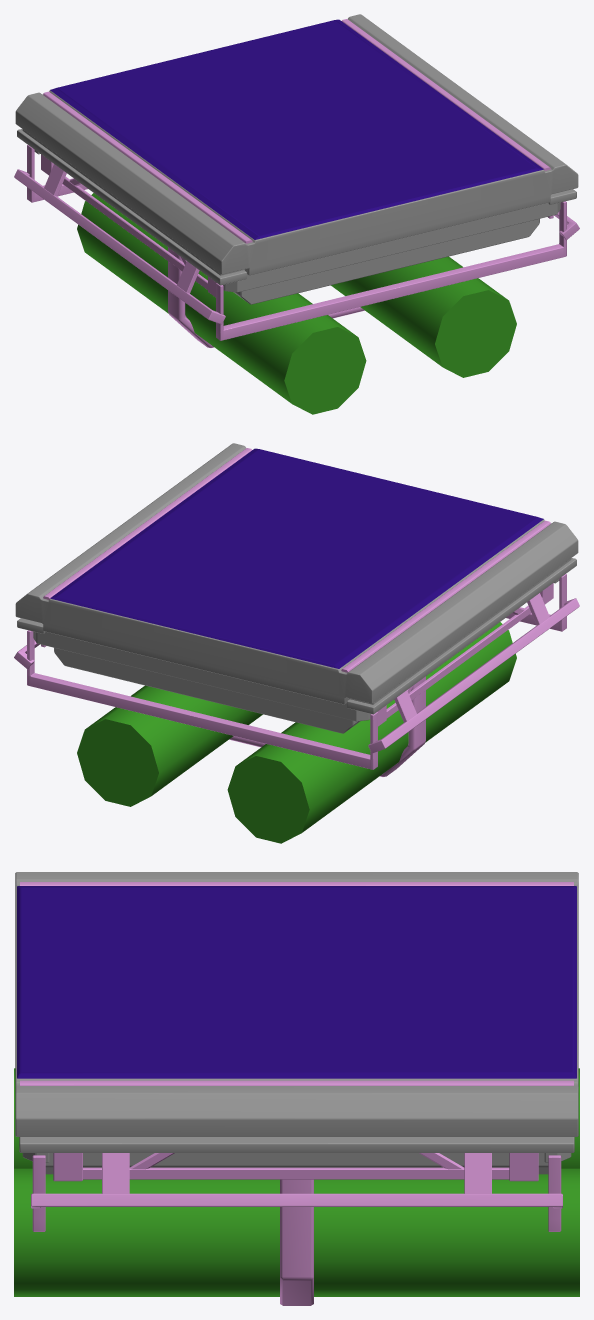
The model's file is BridgeTiles.FBX.
The picture shows the model from 3 angles, top to bottom: view 1: azimuth 30°, elevation 25°; view 2: azimuth 150°, elevation 25°; view 3: azimuth 270°, elevation 25°; orthographic projection. The views are drawn at different scales.
Visible parts, largest first — view 1: Object001, SM_SideFloor_008, Cylinder001, Box017, Box016, Box020, Object004, Box021, Box019, Line005, Line004, Object003; view 2: Object001, SM_SideFloor_008, Cylinder001, Box017, Box016, Box020, Object004, Box021, Box019, Line005, Line004, Object003; view 3: Object001, Cylinder001, SM_SideFloor_008, Box021, Box019, Object004, Box020, Line005, Line004, Box017, Line003.
Boxes of the visible parts, x1=… form: Object001: x1=50, y1=19, x2=543, y2=239; SM_SideFloor_008: x1=15, y1=14, x2=578, y2=285; Cylinder001: x1=77, y1=193, x2=516, y2=414; Box017: x1=27, y1=145, x2=566, y2=340; Box016: x1=34, y1=150, x2=560, y2=292; Box020: x1=233, y1=219, x2=539, y2=304; Object004: x1=43, y1=19, x2=550, y2=243; Box021: x1=14, y1=169, x2=579, y2=324; Box019: x1=41, y1=154, x2=553, y2=297; Line005: x1=168, y1=247, x2=364, y2=347; Line004: x1=44, y1=164, x2=199, y2=293; Object003: x1=22, y1=129, x2=244, y2=275; Object001: x1=50, y1=448, x2=543, y2=668; SM_SideFloor_008: x1=15, y1=443, x2=578, y2=714; Cylinder001: x1=77, y1=622, x2=516, y2=843; Box017: x1=27, y1=574, x2=566, y2=769; Box016: x1=33, y1=579, x2=559, y2=721; Box020: x1=54, y1=648, x2=360, y2=733; Object004: x1=43, y1=448, x2=550, y2=672; Box021: x1=14, y1=598, x2=579, y2=753; Box019: x1=41, y1=583, x2=553, y2=726; Line005: x1=229, y1=676, x2=425, y2=776; Line004: x1=394, y1=593, x2=549, y2=722; Object003: x1=349, y1=558, x2=571, y2=704; Object001: x1=17, y1=886, x2=576, y2=1078; Cylinder001: x1=14, y1=1068, x2=579, y2=1296; SM_SideFloor_008: x1=15, y1=872, x2=578, y2=1152; Box021: x1=31, y1=1193, x2=562, y2=1208; Box019: x1=53, y1=1153, x2=538, y2=1181; Object004: x1=20, y1=882, x2=573, y2=1085; Box020: x1=45, y1=1153, x2=548, y2=1174; Line005: x1=280, y1=1179, x2=313, y2=1305; Line004: x1=102, y1=1153, x2=491, y2=1193; Box017: x1=32, y1=1155, x2=561, y2=1231; Line003: x1=129, y1=1153, x2=464, y2=1169.
Size of the model in its own units: 102 by 51.15 by 98.93.
